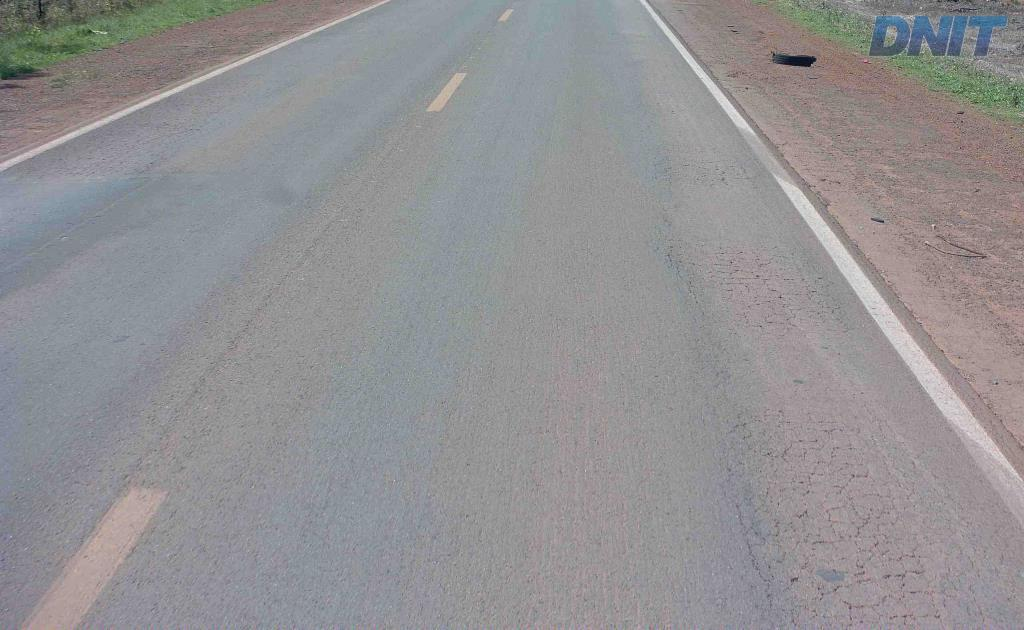crack: (728, 479, 782, 598)
